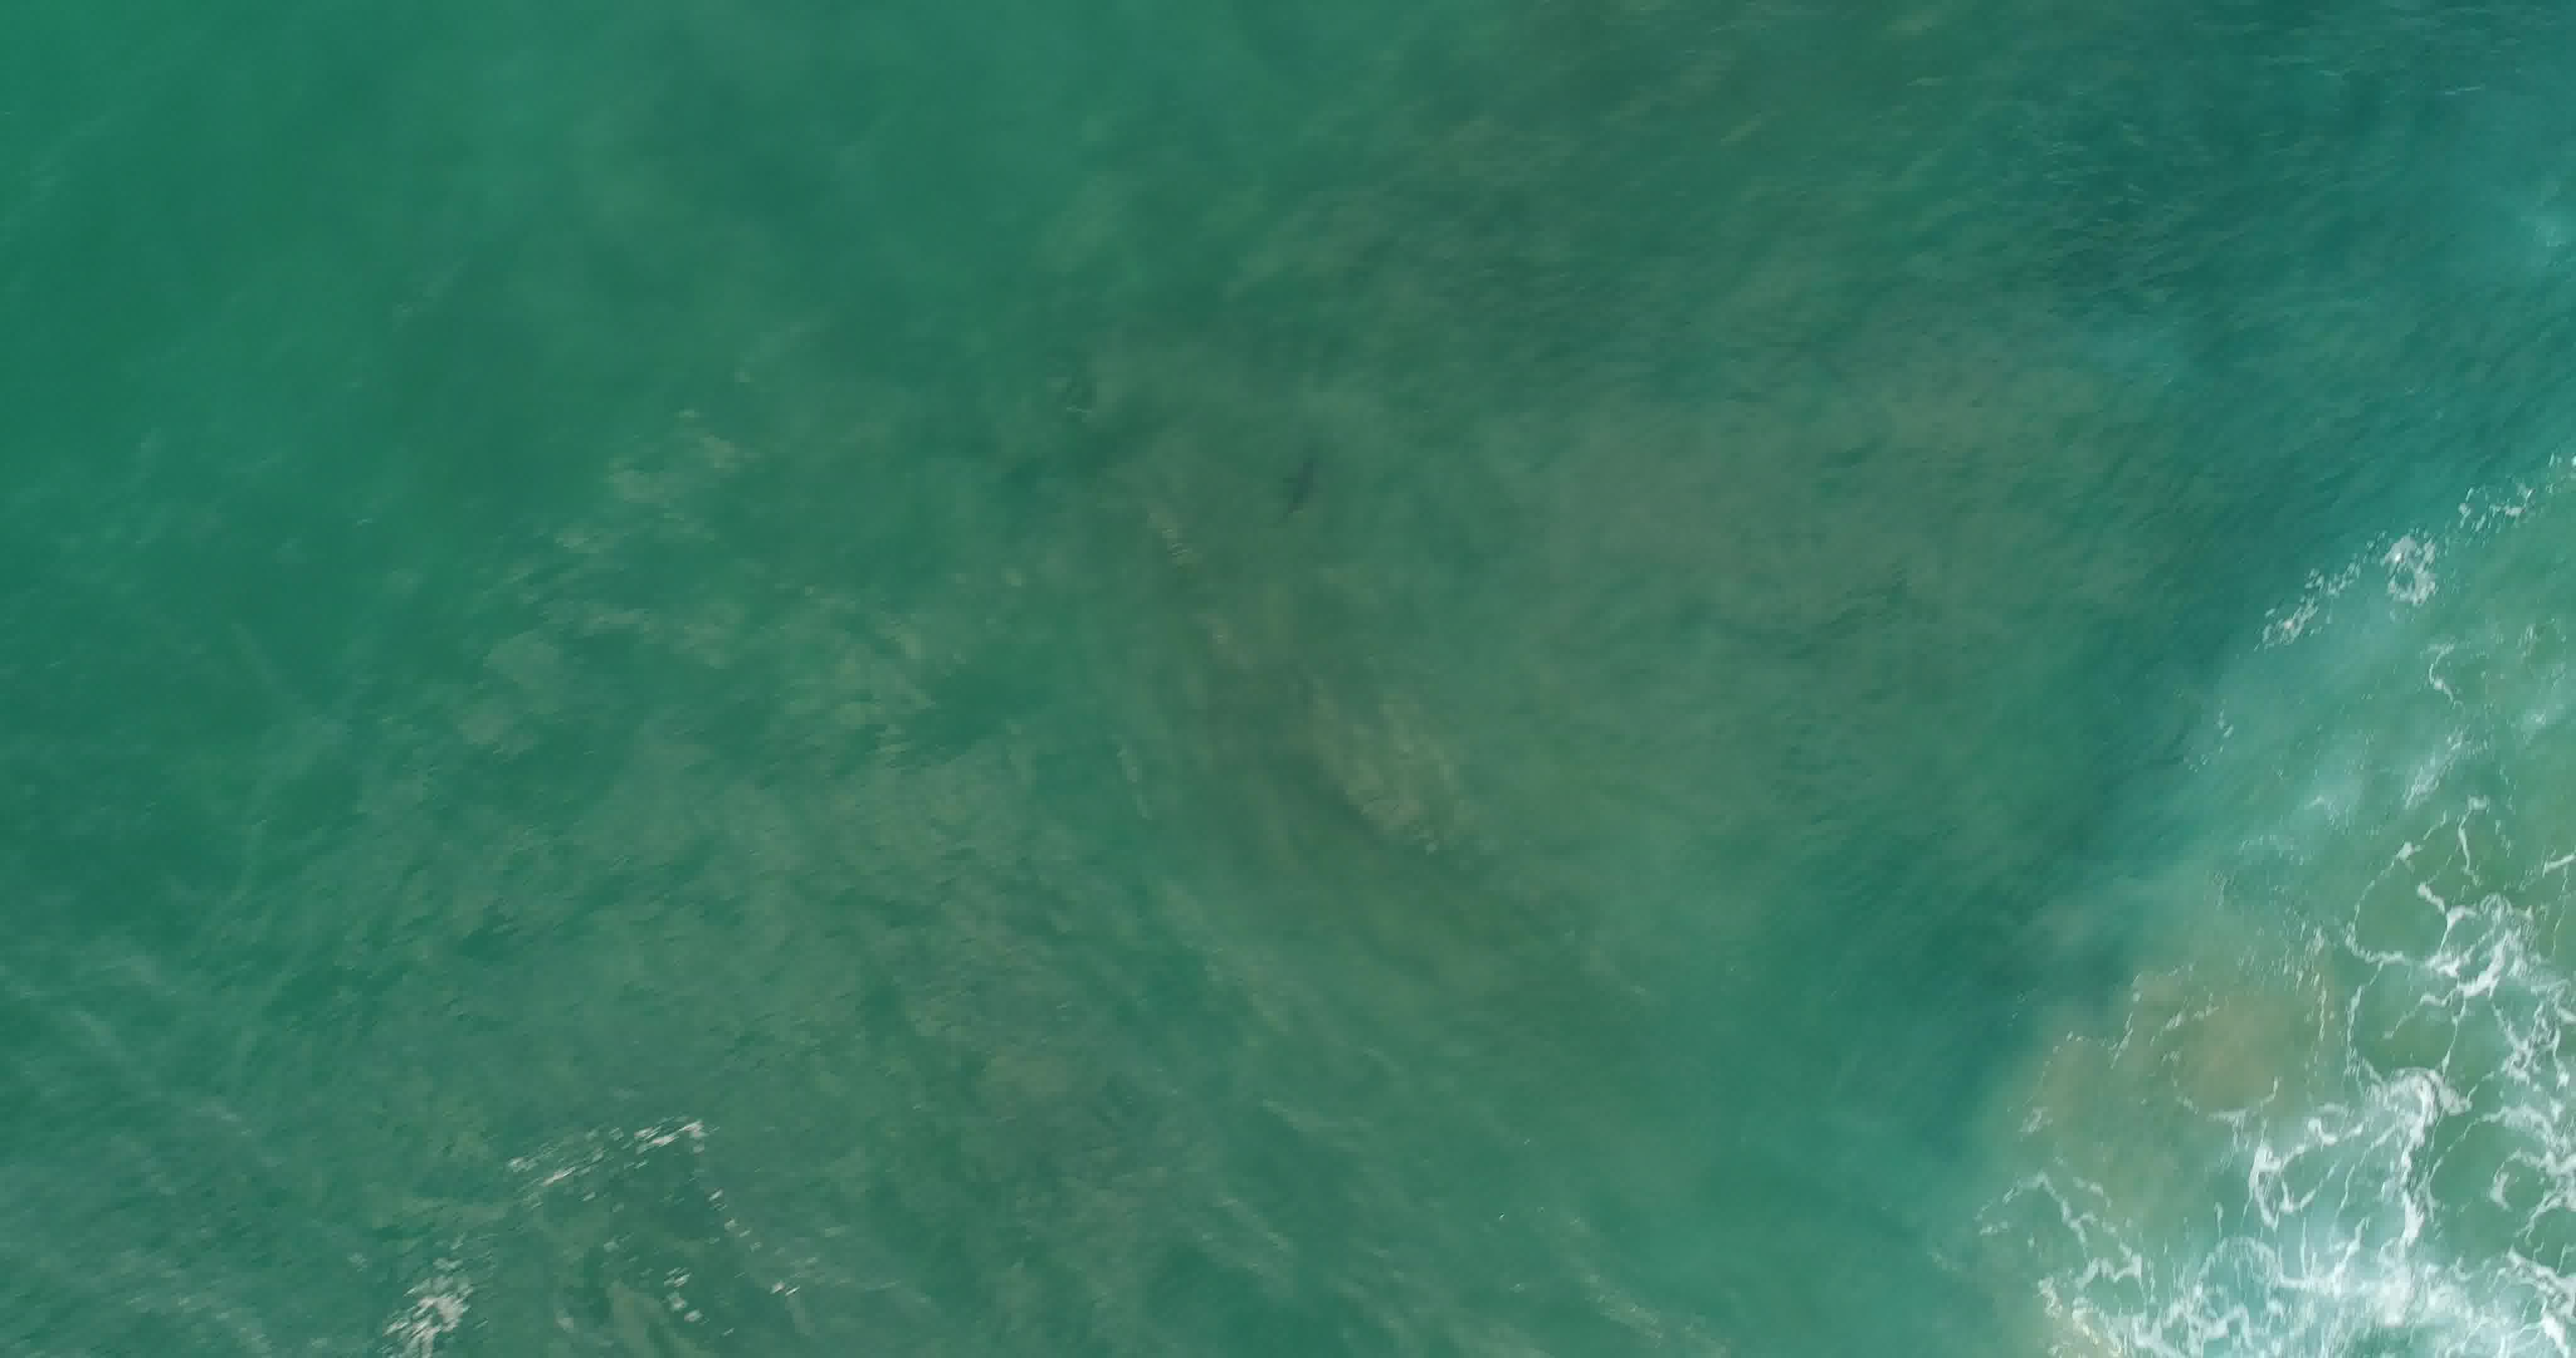shark: (1269, 450, 1336, 530)
